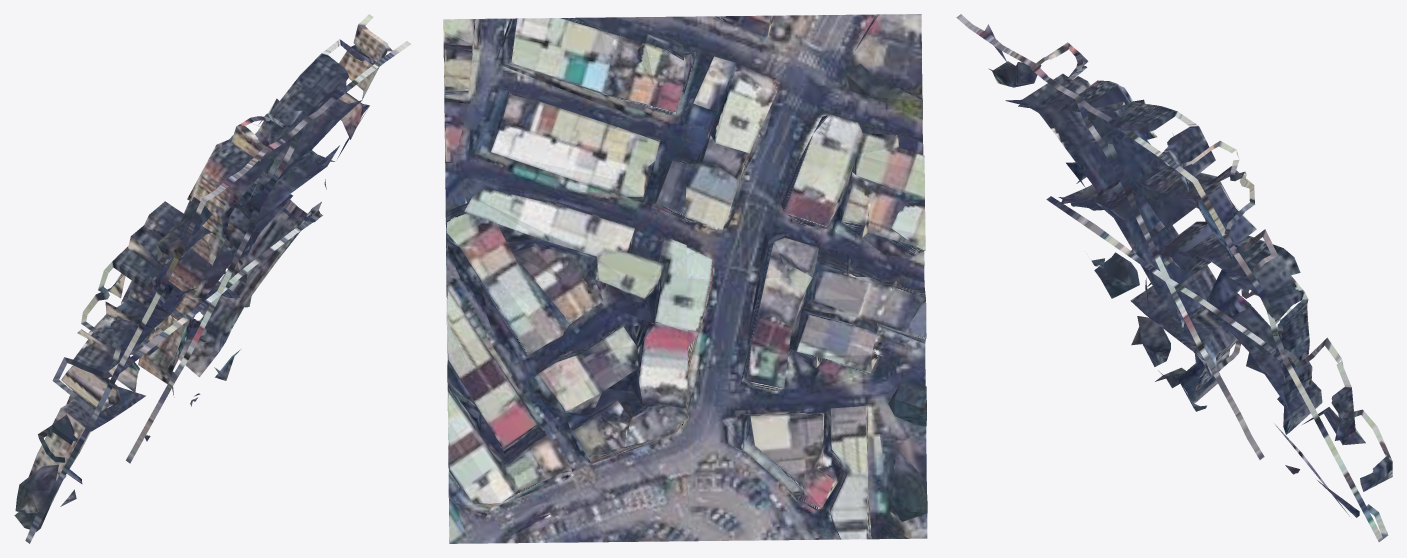
3 views of the same model, side by side, from view 1: azimuth 30°, elevation 25°; view 2: azimuth 150°, elevation 25°; view 3: azimuth 270°, elevation 25° (orthographic). The views are drawn at different scales.
Bounding box in the file's own units: 155 × 145 × 133.
Materials: 1 (1 with a texture image).
